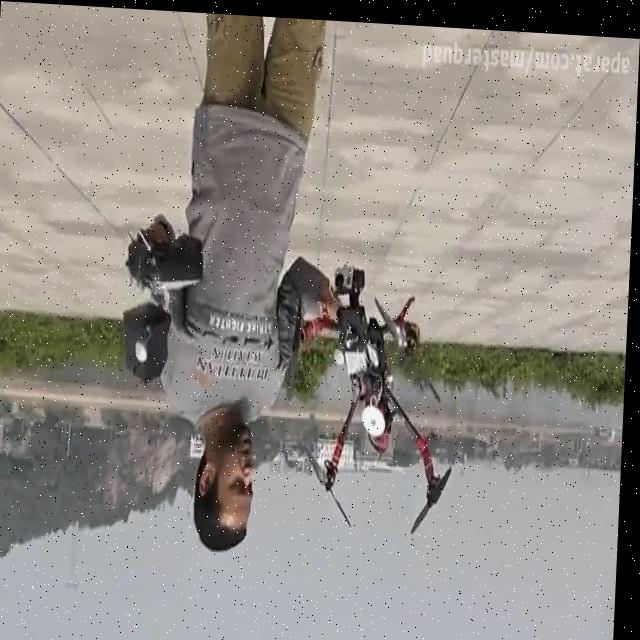drone: (282, 254, 464, 534)
